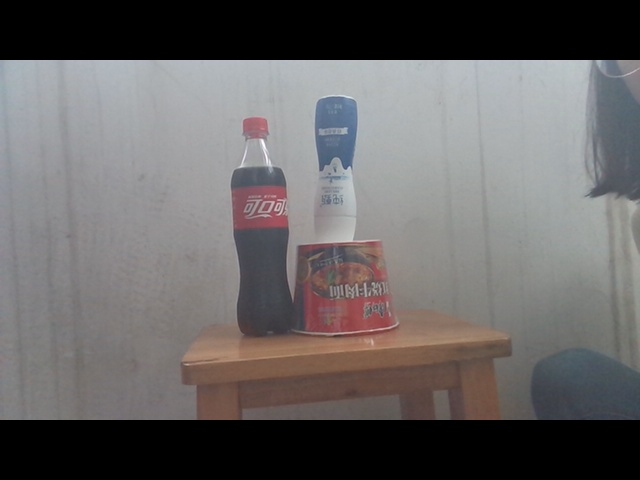cola: (230, 116, 296, 335)
kangshifu: (294, 239, 400, 337)
yogurt: (311, 94, 358, 244)
